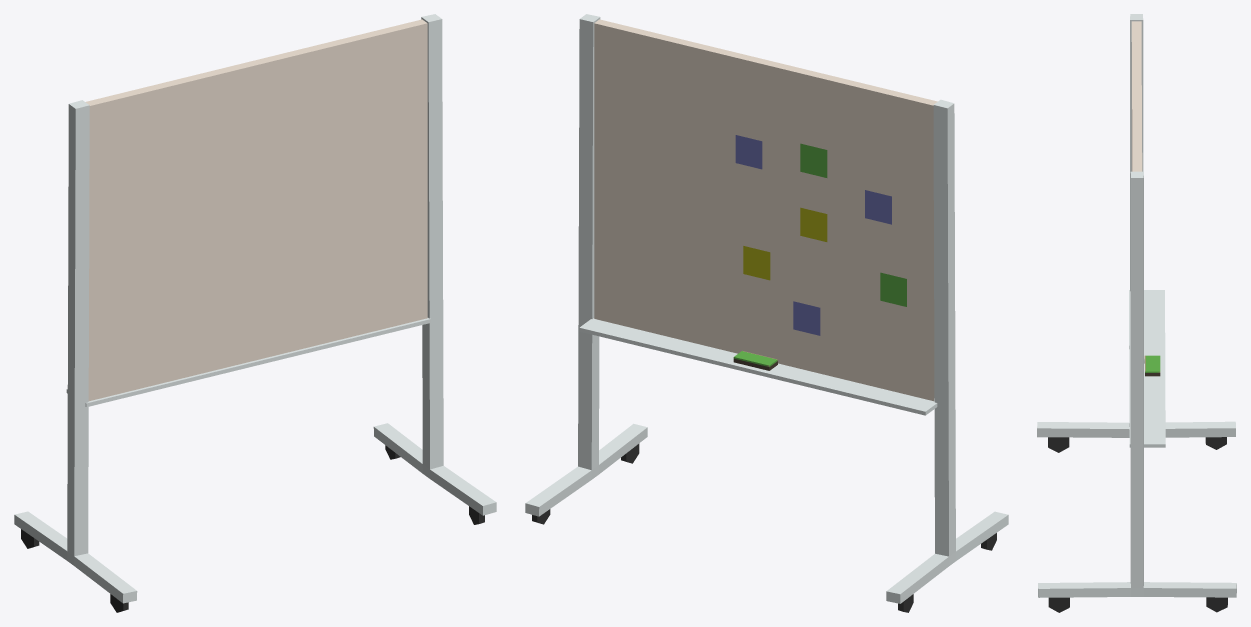
File: Board.fbx
3 renders of one model, left to right at view 1: azimuth 30°, elevation 25°; view 2: azimuth 150°, elevation 25°; view 3: azimuth 270°, elevation 25°, orthographic. The views are drawn at different scales.
Parts seen in each view (by area): view 1: Board; view 2: Board; view 3: Board.
Part boxes in pixels (x1,y1,x2,y2): Board: [14, 14, 496, 612]; Board: [525, 14, 1008, 612]; Board: [1037, 14, 1236, 612].
Bounding box in the file's own units: 1.51 × 1.84 × 0.7634.
